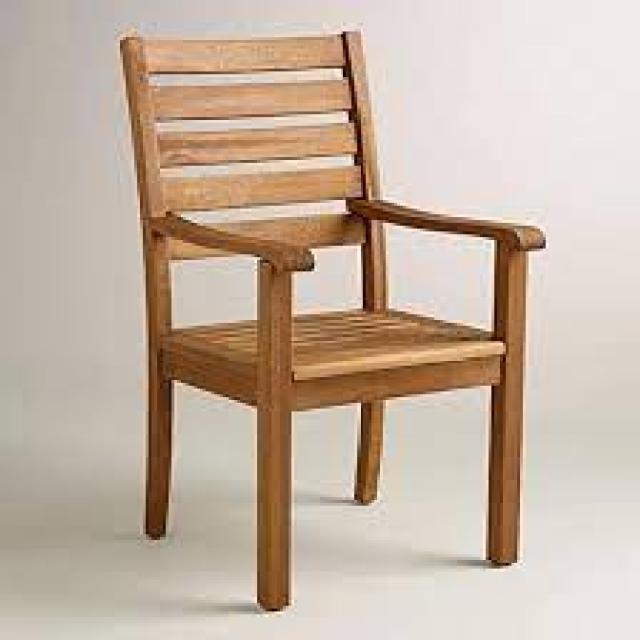chair: (72, 19, 566, 637)
